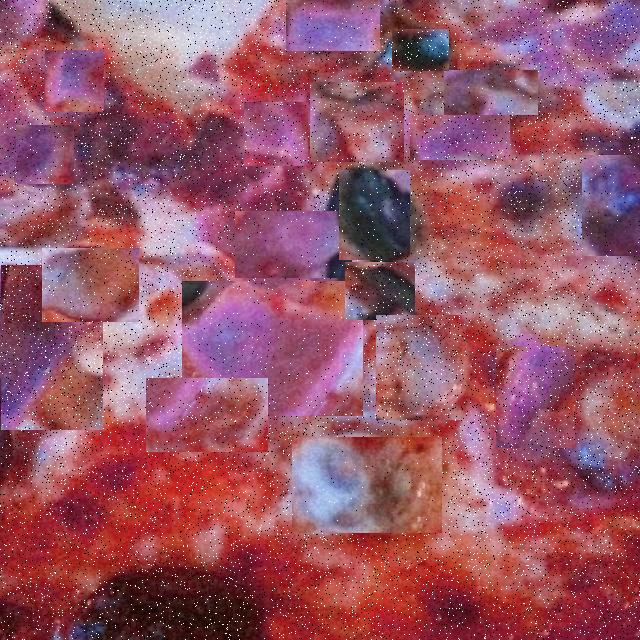Ham: (182, 281, 363, 416), (1, 266, 103, 432), (512, 1, 637, 70), (496, 346, 575, 448), (235, 211, 352, 278), (582, 155, 640, 256), (286, 0, 380, 51), (410, 115, 510, 160), (244, 102, 308, 166), (45, 50, 104, 112), (16, 125, 74, 184)
Mushrooms: (292, 437, 442, 533), (376, 315, 466, 420), (146, 378, 268, 452), (310, 82, 404, 162), (42, 248, 139, 322), (444, 70, 538, 115), (345, 262, 415, 320)
Olives: (339, 170, 410, 260), (392, 29, 449, 71)
